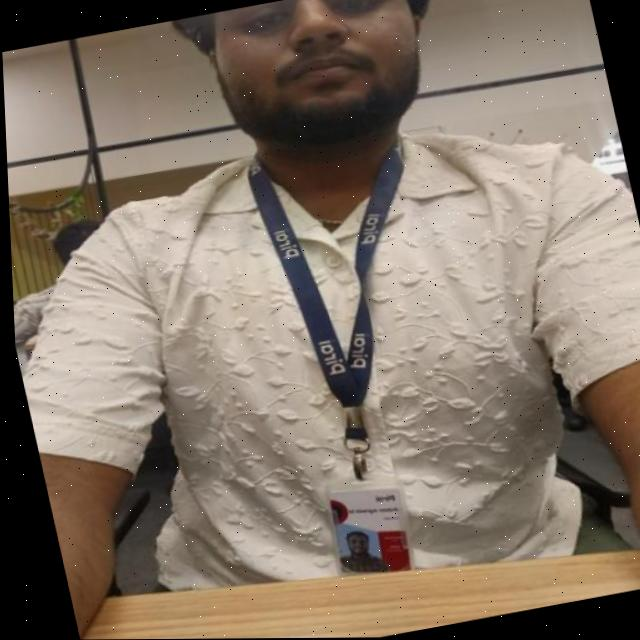id_card: (234, 135, 497, 587)
